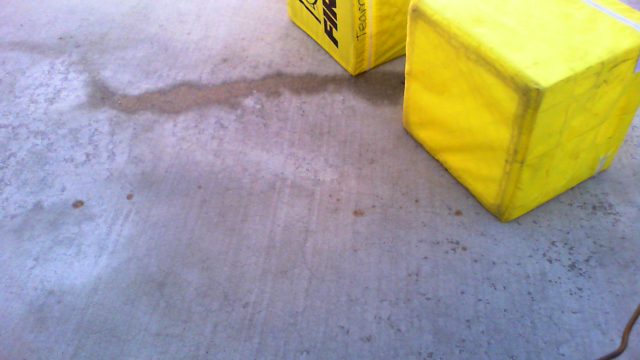cube: (402, 1, 640, 222), (288, 1, 434, 76)
